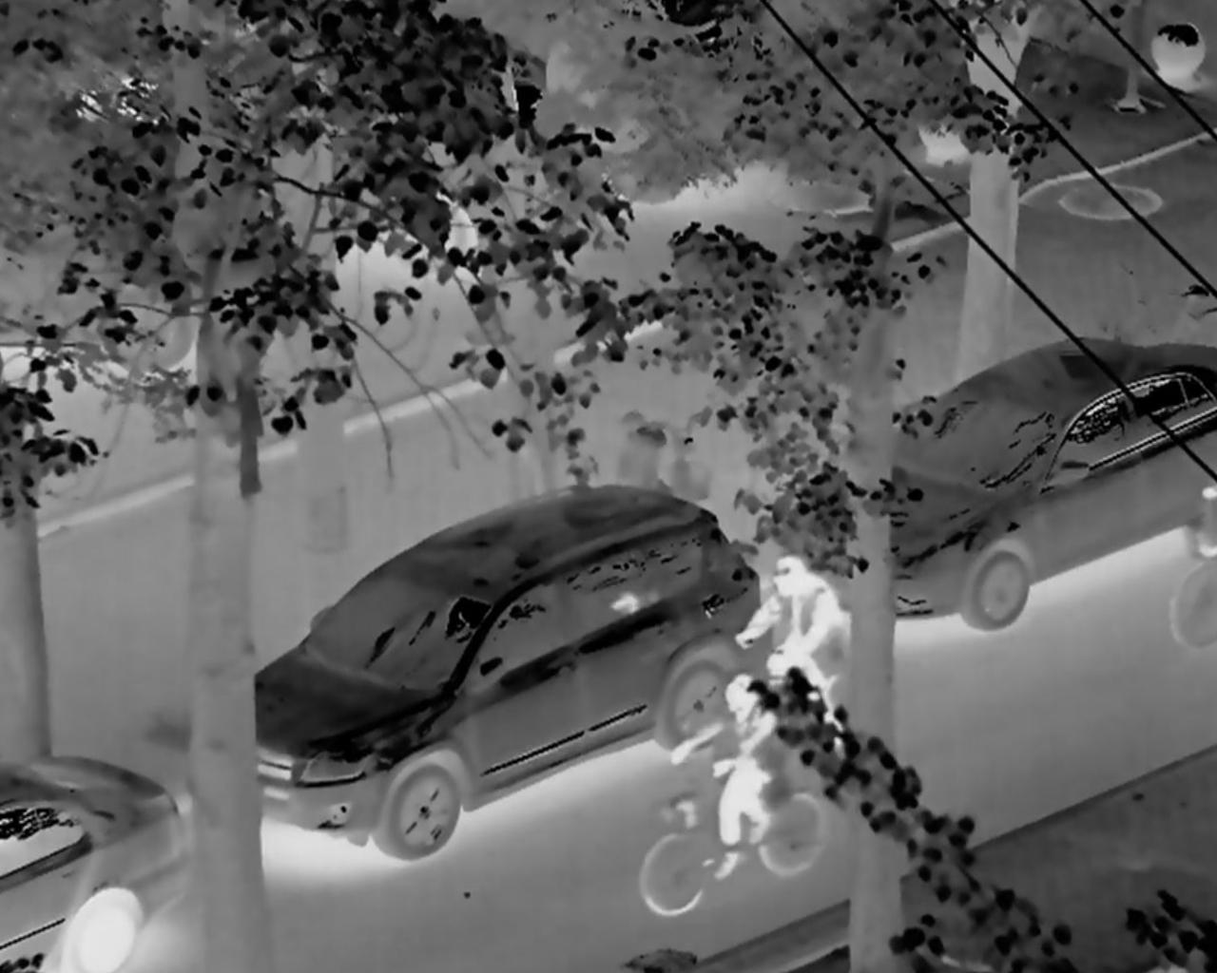person: (645, 674, 826, 922), (736, 552, 874, 750)
